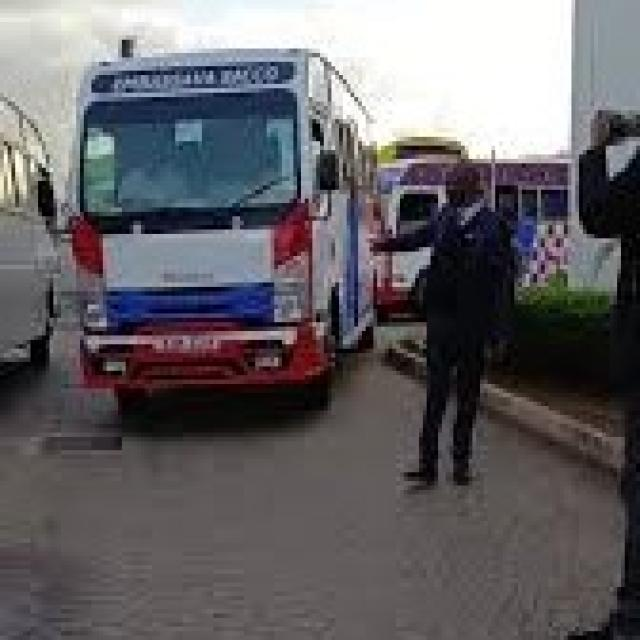bus: (28, 0, 412, 440)
